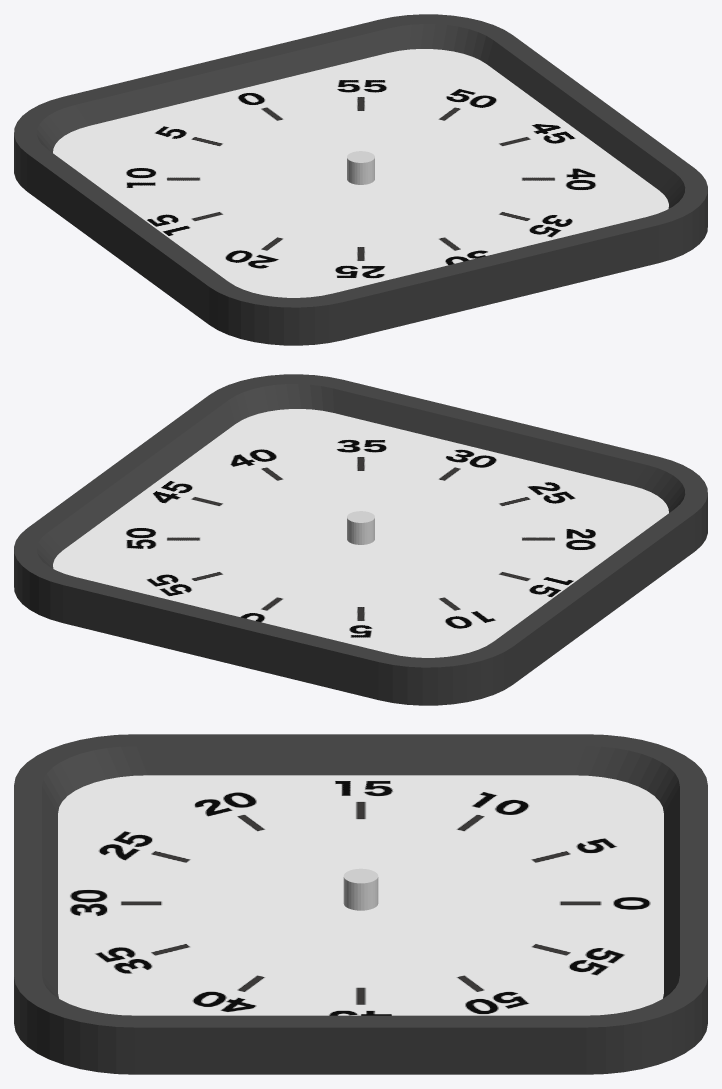
File: ClockUIBackground.fbx
The picture shows the model from 3 angles, top to bottom: view 1: azimuth 30°, elevation 25°; view 2: azimuth 150°, elevation 25°; view 3: azimuth 270°, elevation 25°; orthographic projection. The views are drawn at different scales.
Parts seen in each view (by area): view 1: ClockUIBackground; view 2: ClockUIBackground; view 3: ClockUIBackground.
Boxes of the visible parts, x1,y1,x2,y2 form: ClockUIBackground: [14, 14, 707, 345]; ClockUIBackground: [14, 374, 707, 705]; ClockUIBackground: [14, 734, 707, 1074].
Size of the model in its own units: 40 by 3.31 by 40.
